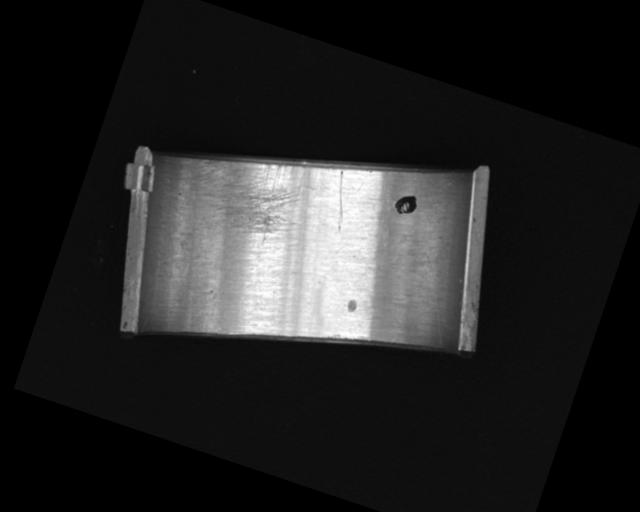blot: (391, 190, 420, 218)
bruise: (345, 297, 359, 314)
nick: (397, 252, 467, 348), (321, 169, 360, 233)
scratch: (183, 133, 313, 250)
